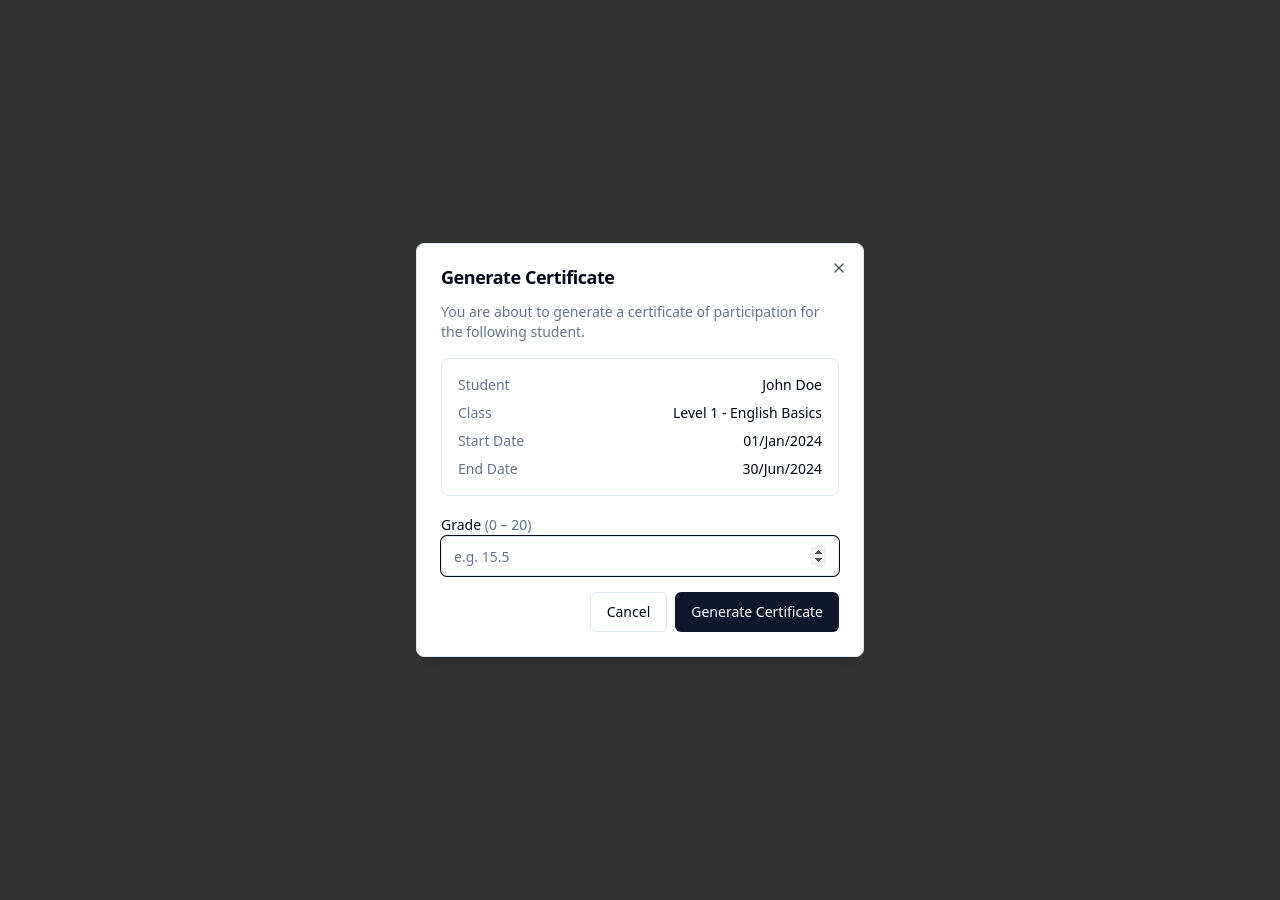
GenerateCertificateDialog › shows validation error when generating without grade
Click the button "Generate Certificate" at (757, 612), box [675,592,839,632]
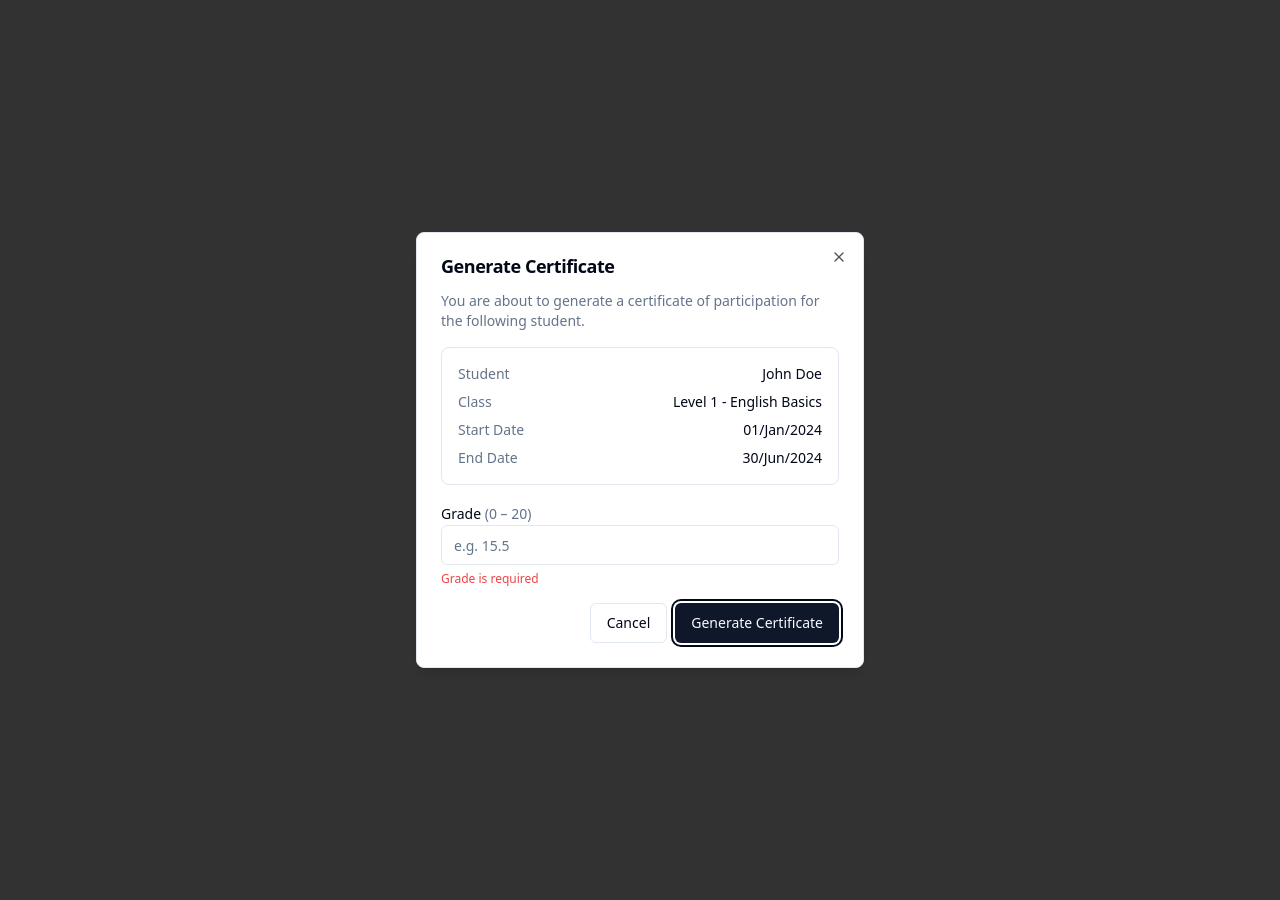
Check: the text "Grade is required" is shown, box [441,570,539,587]
